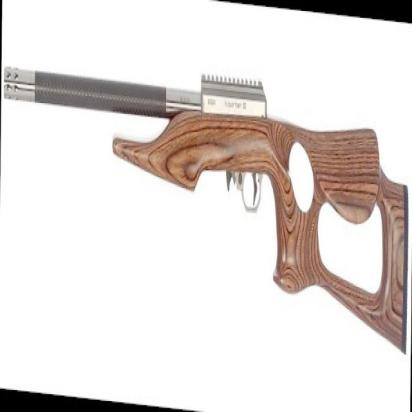Gun: (0, 54, 412, 365)
